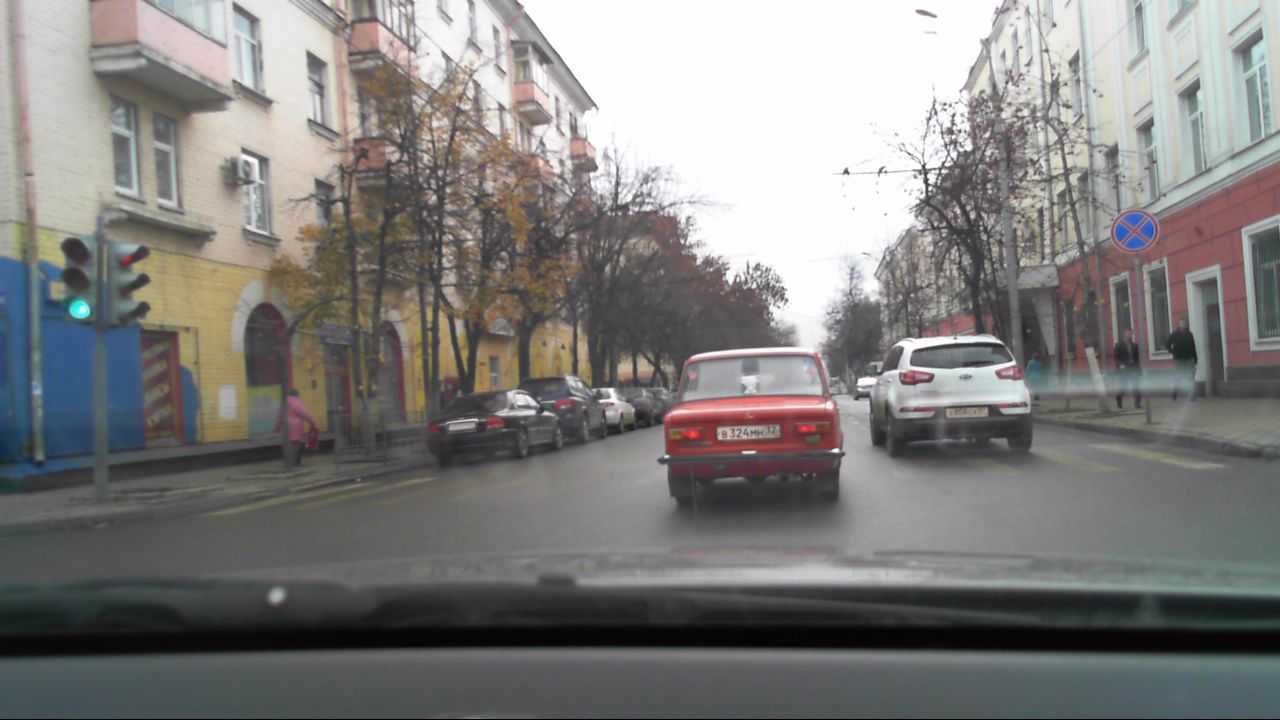No Parking: (1109, 207, 1161, 255)
